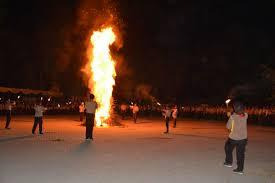fire: (85, 25, 119, 127)
